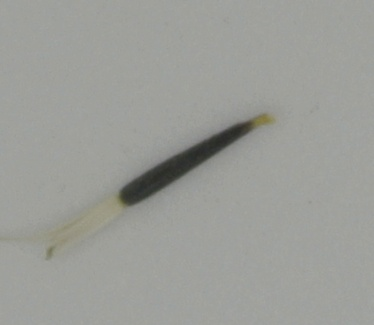เมล็ดดีเรียวยาว: (40, 111, 282, 258)
